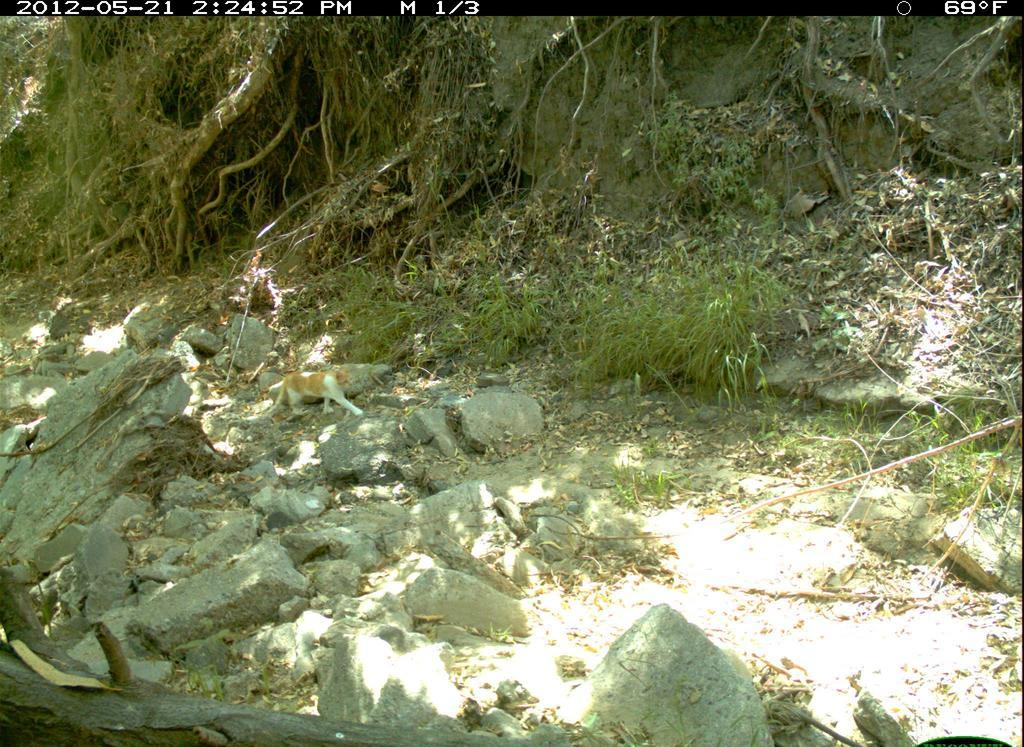cat: (260, 359, 372, 429)
